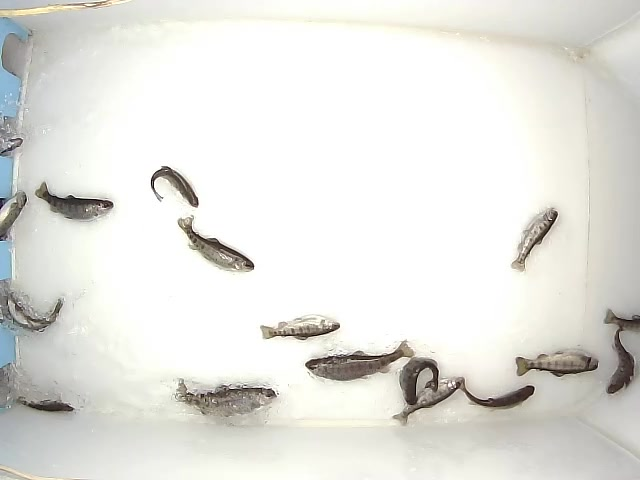fish: (171, 375, 280, 424), (303, 337, 417, 382), (175, 211, 256, 271), (508, 204, 563, 275), (392, 377, 461, 426), (33, 180, 114, 221), (455, 375, 535, 411), (259, 310, 344, 342), (512, 351, 599, 381), (393, 353, 441, 406), (602, 322, 635, 395), (147, 164, 200, 209)
